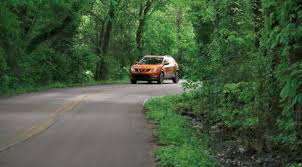car: (129, 54, 181, 84)
